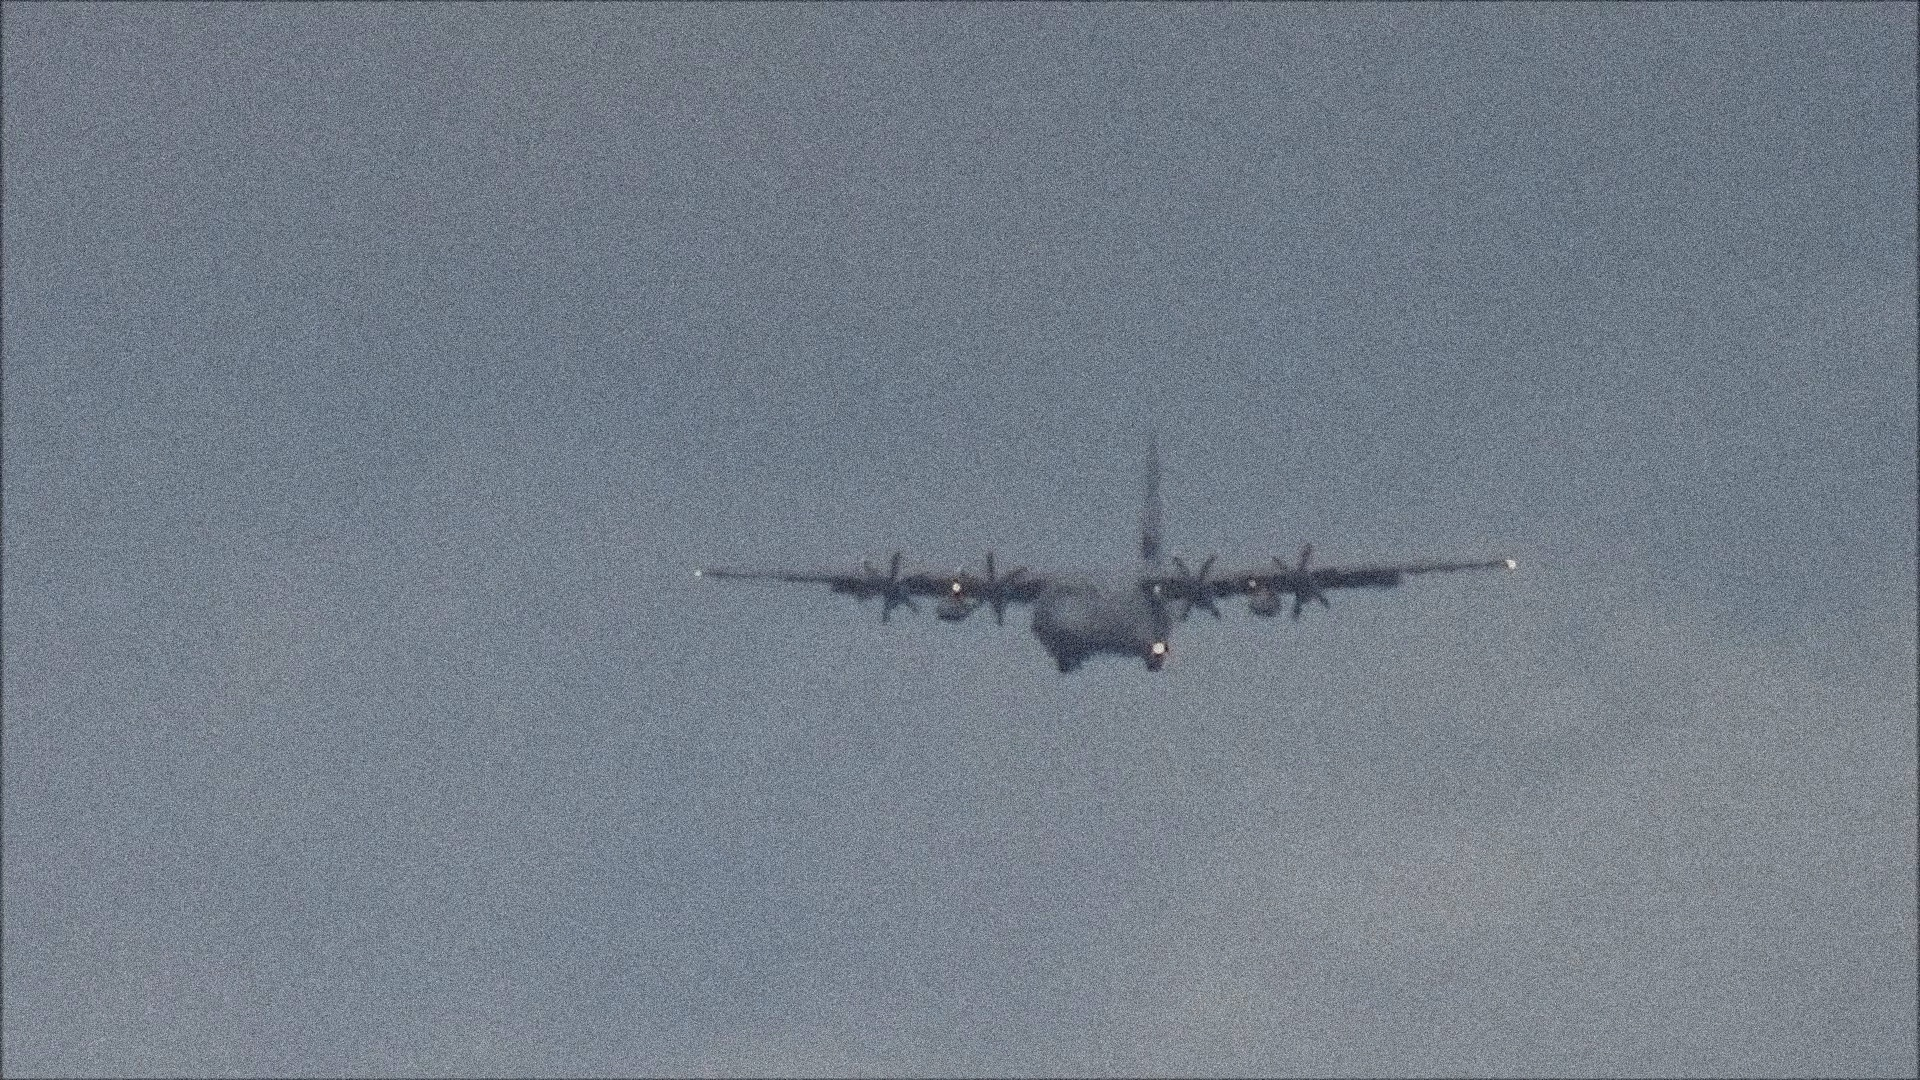Airplane: (699, 438, 1519, 673)
